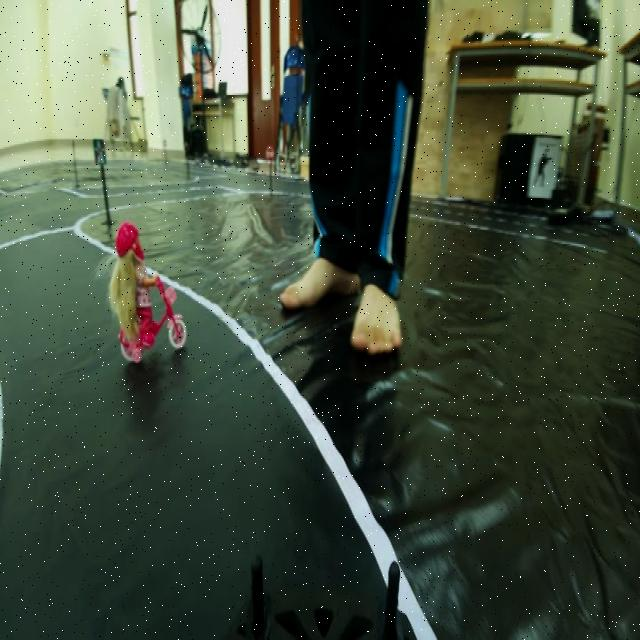pedestrian: (103, 217, 193, 371)
